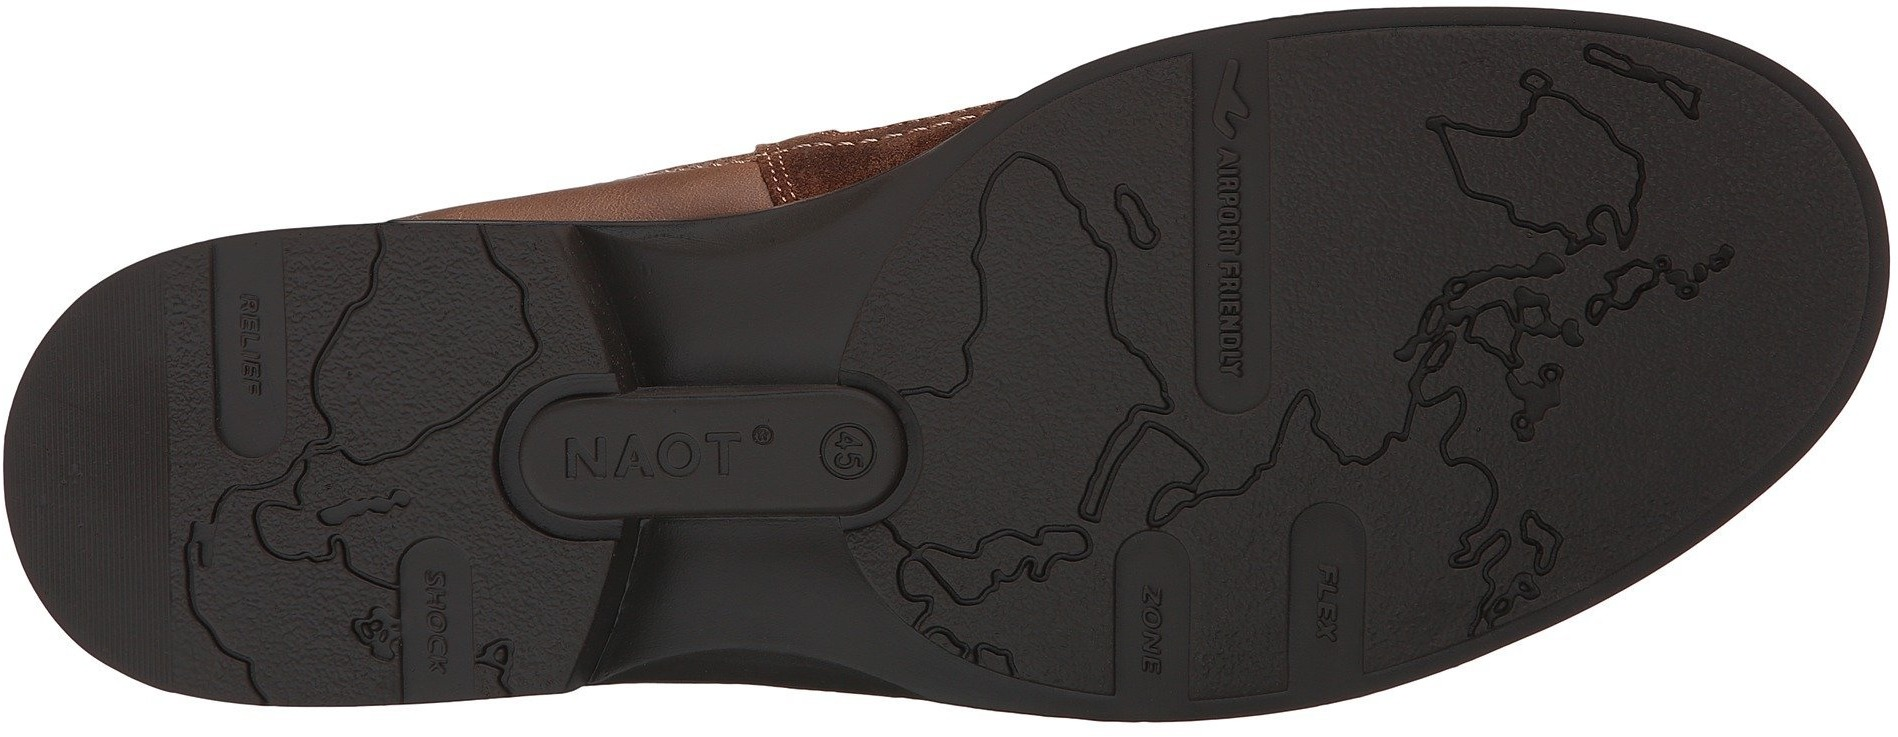circle: (404, 562, 468, 680), (1116, 572, 1190, 675), (803, 414, 891, 494), (750, 418, 786, 453)
exclude: (554, 508, 942, 707)
other: (1591, 346, 1764, 503), (1271, 117, 1439, 274), (16, 396, 172, 545)
text: (541, 401, 671, 516), (679, 403, 777, 505), (404, 562, 468, 680), (1116, 572, 1190, 675), (803, 414, 891, 494), (224, 290, 278, 397), (1204, 148, 1265, 243), (1293, 562, 1364, 638), (1203, 249, 1266, 330), (1204, 339, 1260, 398)
